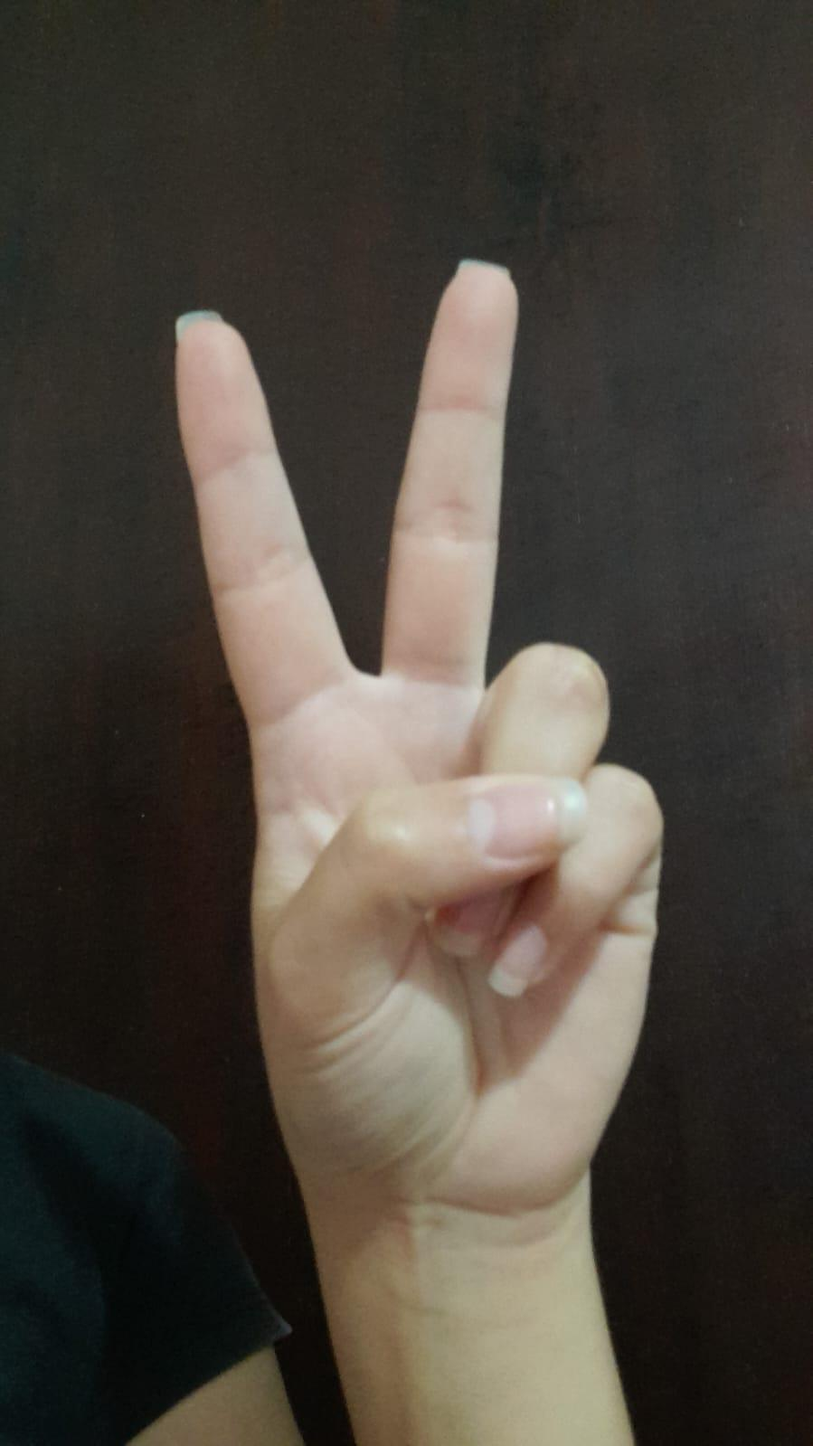V: (131, 235, 669, 1212)
